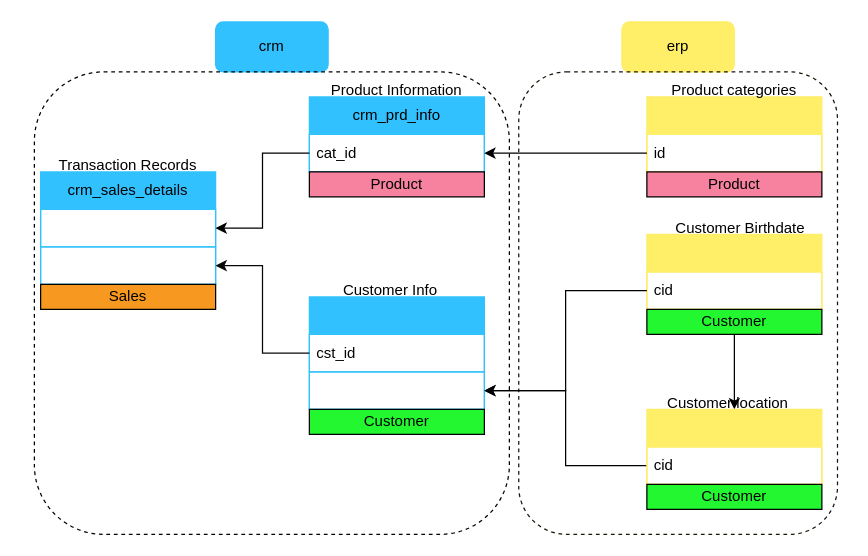
The diagram is 868 pixels wide and 556 high, and some of its shapes have lost their labels. Each missing label, with the box of its shape:
crm_cust_info: (308, 296, 484, 409)
cst_key: (308, 371, 484, 409)
erp_cust_az12: (646, 233, 822, 309)
erp_loc_a101: (646, 408, 822, 484)
erp_px_cat_g1v2: (646, 96, 822, 172)
sls_cust_id: (39, 246, 216, 284)
sls_prd_key: (39, 208, 216, 247)
